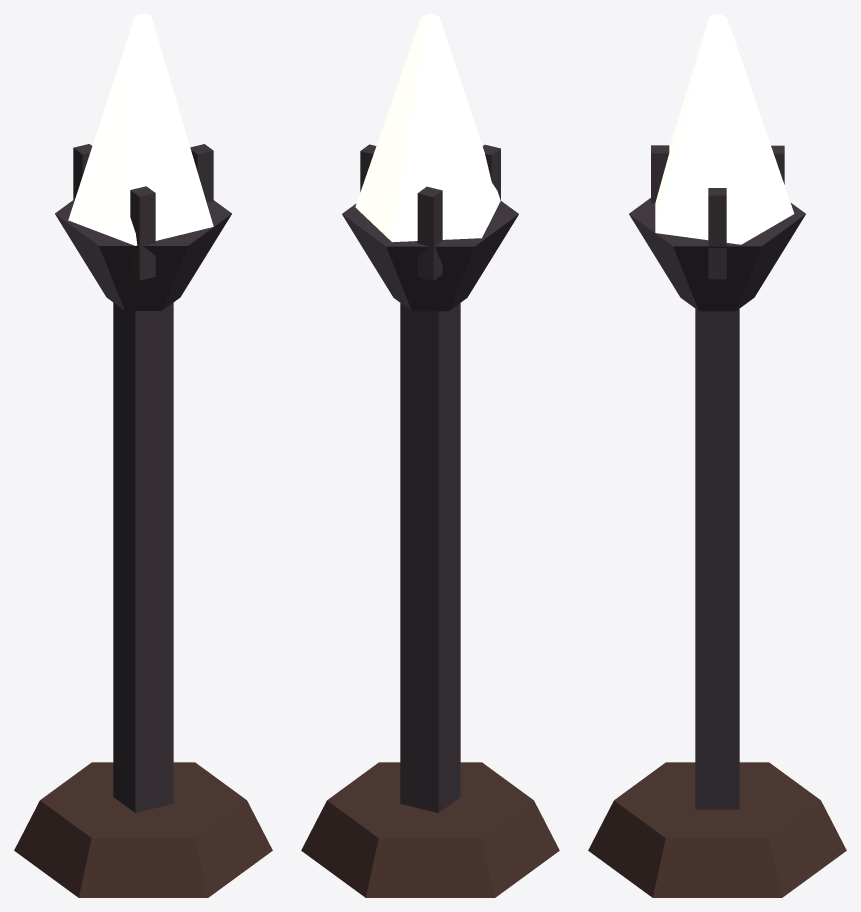
File: torch_standing.glb
The picture shows the model from 3 angles, left to right: view 1: azimuth 30°, elevation 25°; view 2: azimuth 150°, elevation 25°; view 3: azimuth 270°, elevation 25°; orthographic projection.
Parts seen in each view (by area): view 1: torch_standing, Flame; view 2: torch_standing, Flame; view 3: torch_standing, Flame.
Boxes of the visible parts, x1,y1,x2,y2 form: torch_standing: [14, 144, 272, 897]; Flame: [68, 14, 213, 245]; torch_standing: [301, 144, 559, 897]; Flame: [355, 14, 500, 242]; torch_standing: [588, 145, 846, 897]; Flame: [655, 14, 794, 244].
Bounding box in the file's own units: 0.6062 × 2.48 × 0.7.
